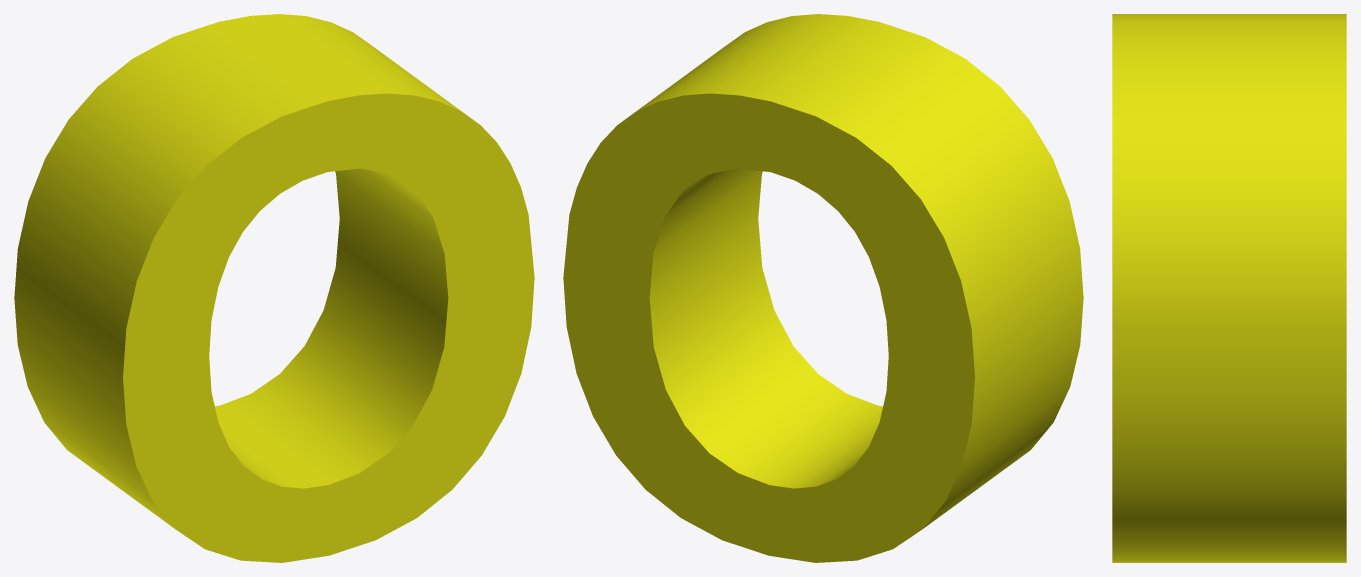
3 renders of one model, left to right at view 1: azimuth 30°, elevation 25°; view 2: azimuth 150°, elevation 25°; view 3: azimuth 270°, elevation 25°, orthographic. The views are drawn at different scales.
Parts seen in each view (by area): view 1: O; view 2: O; view 3: O.
Boxes of the visible parts, <box> form: O: <box>14,14,534,562</box>; O: <box>563,14,1083,562</box>; O: <box>1112,14,1346,562</box>.
Size of the model in its own units: 0.4816 by 0.5084 by 0.22.
